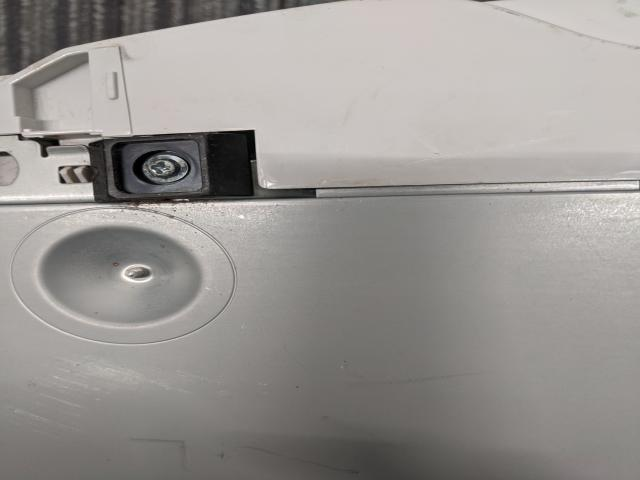CRS: (144, 158, 182, 176)
